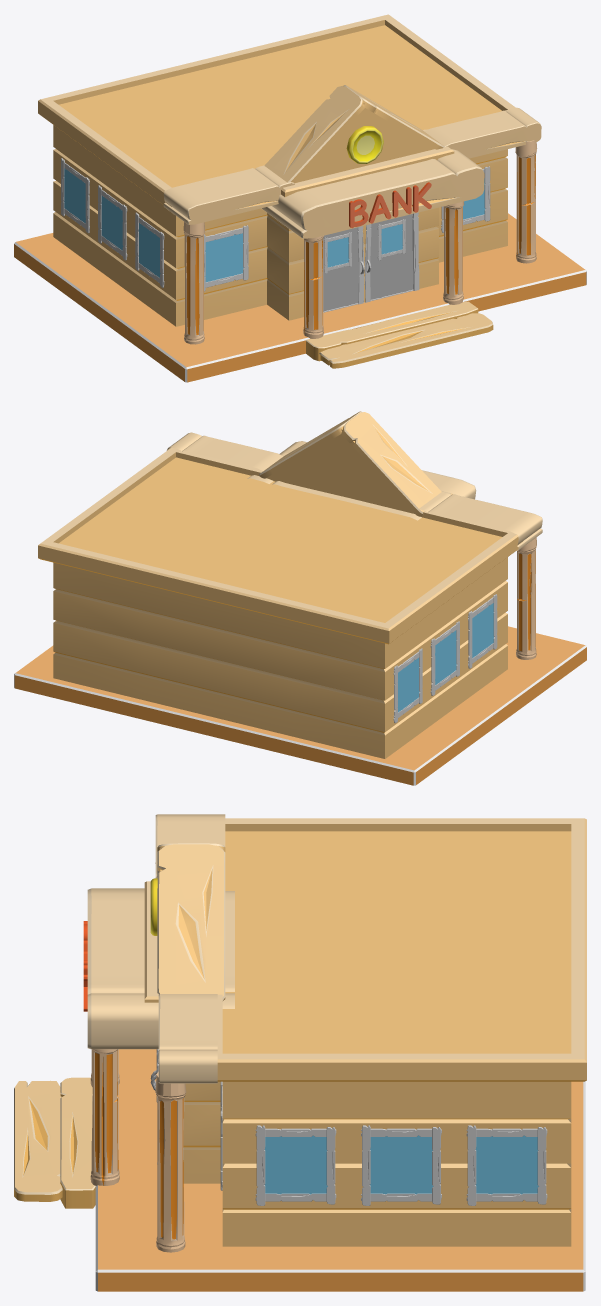
The model's file is Bank (2).fbx.
3 views of the same model, one above another, from view 1: azimuth 30°, elevation 25°; view 2: azimuth 150°, elevation 25°; view 3: azimuth 270°, elevation 25° (orthographic). The views are drawn at different scales.
Visible parts, largest first — view 1: Bank, Coin; view 2: Bank; view 3: Bank.
Boxes of the visible parts, <box> form: Bank: <box>14,14,586,382</box>; Coin: <box>346,126,383,163</box>; Bank: <box>14,411,586,785</box>; Bank: <box>14,814,586,1291</box>.
Size of the model in its own units: 74.82 by 38.75 by 65.17.
Materials: 1 (1 with a texture image).
